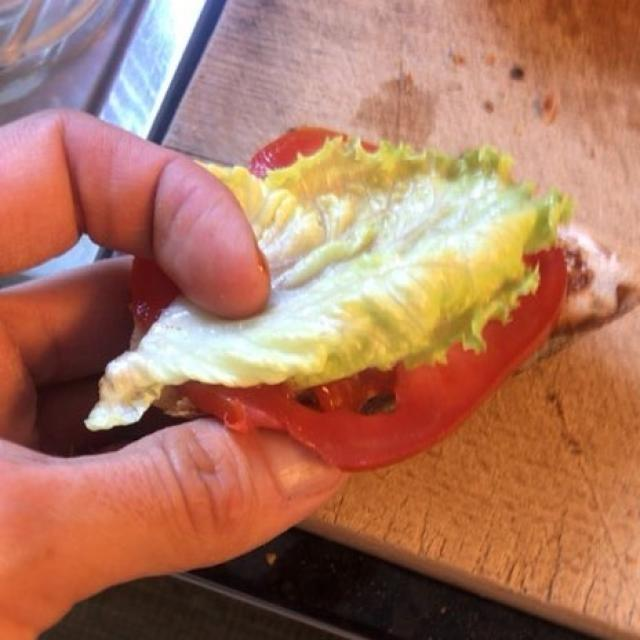bread: (513, 284, 633, 384)
salad: (94, 152, 566, 424)
tomato: (191, 113, 570, 467)
